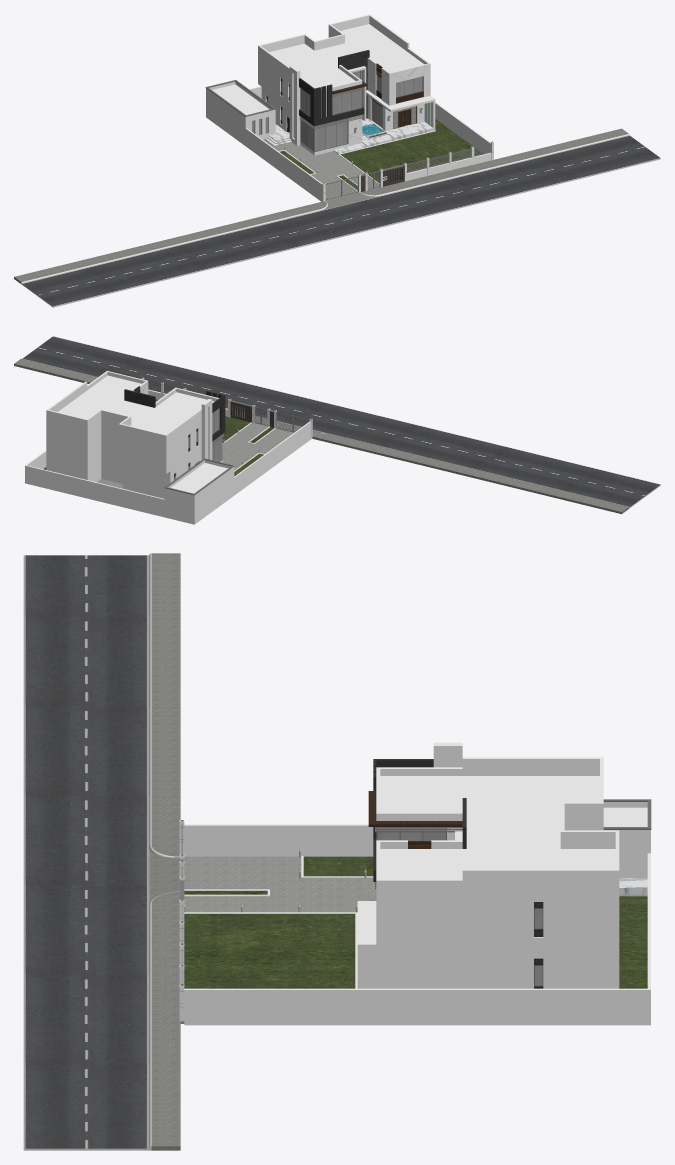
File: modern_villa_g1.glb
3 renders of one model, top to bottom at view 1: azimuth 30°, elevation 25°; view 2: azimuth 150°, elevation 25°; view 3: azimuth 270°, elevation 25°, orthographic. The views are drawn at different scales.
Parts seen in each view (by area): view 1: Geom3D_ (×17), Geom3D (×2); view 2: Geom3D_ (×12), Geom3D (×2); view 3: Geom3D_ (×11), Geom3D (×2).
Boxes of the visible parts, box(x1,y1,x2,y2) form: Geom3D_ (×17): box(14, 14, 660, 307); Geom3D (×2): box(22, 119, 660, 306); Geom3D_ (×12): box(14, 358, 628, 524); Geom3D (×2): box(23, 336, 660, 506); Geom3D_ (×11): box(149, 553, 650, 1150); Geom3D (×2): box(23, 555, 647, 1148).
Bounding box in the file's own units: 89.54 × 10.8 × 40.03.
Materials: 30 (14 with a texture image).
